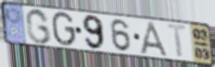6: (109, 18, 132, 53)
9: (81, 14, 107, 50)
A: (139, 21, 172, 59)
G: (24, 8, 53, 46), (51, 11, 77, 48)
T: (165, 22, 190, 60)
